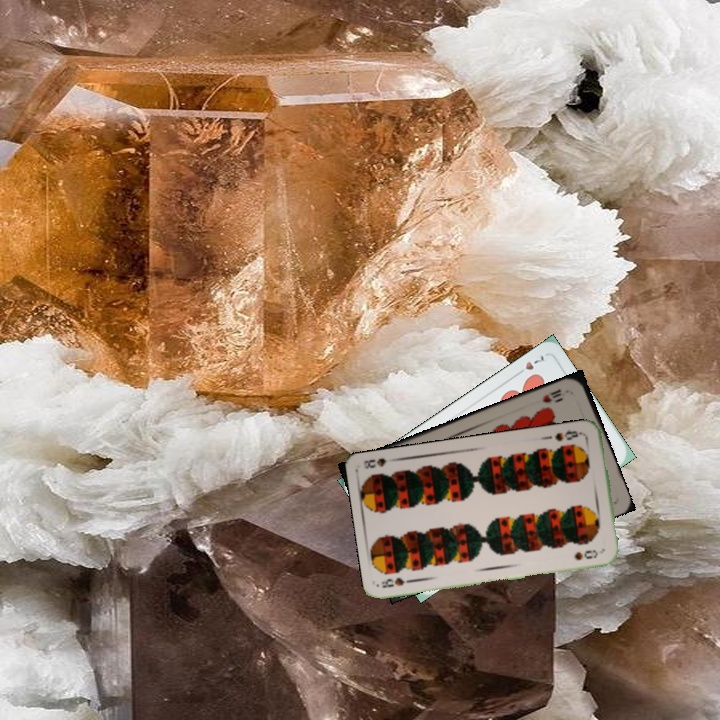H10: (538, 385, 564, 406)
H7: (512, 351, 547, 379)
S8: (377, 573, 418, 590), (551, 426, 588, 444)
